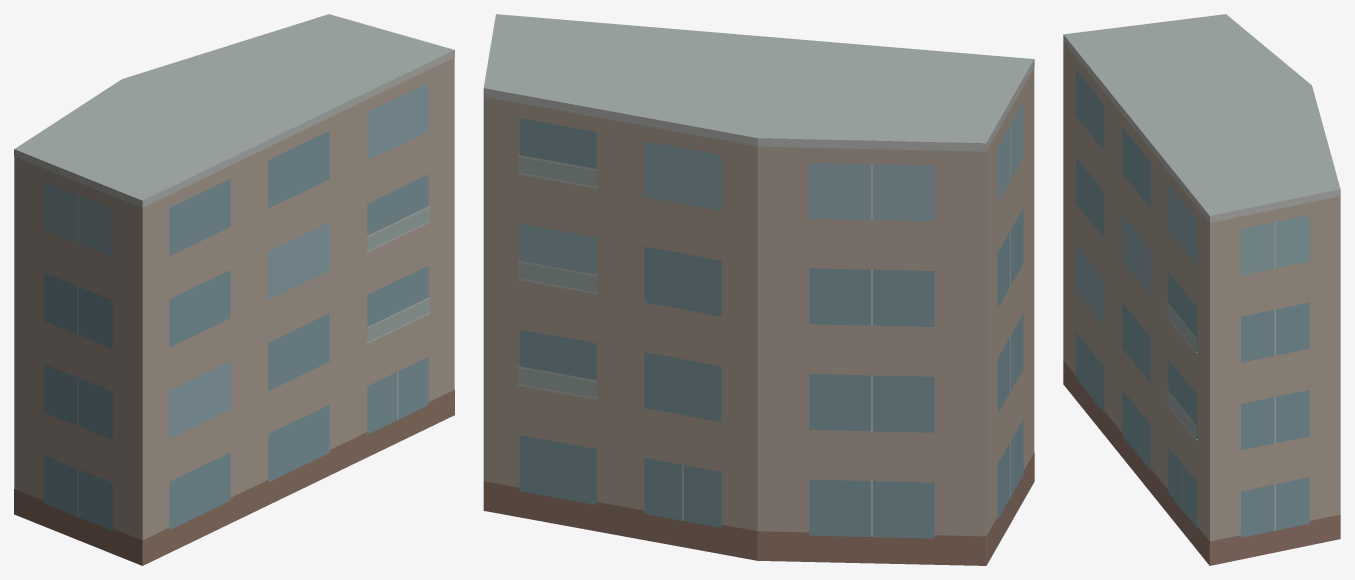
The model's file is residential-2057a778-b4ca-4744-8f73-6595a5b946dc.glb.
3 views of the same model, side by side, from view 1: azimuth 30°, elevation 25°; view 2: azimuth 150°, elevation 25°; view 3: azimuth 270°, elevation 25° (orthographic). The views are drawn at different scales.
Parts seen in each view (by area): view 1: residential-2057a778-b4ca-4744-8f73-6595a5b946dc.tmp; view 2: residential-2057a778-b4ca-4744-8f73-6595a5b946dc.tmp; view 3: residential-2057a778-b4ca-4744-8f73-6595a5b946dc.tmp.
Boxes of the visible parts, box(x1,y1,x2,y2) form: residential-2057a778-b4ca-4744-8f73-6595a5b946dc.tmp: box(14, 14, 454, 565); residential-2057a778-b4ca-4744-8f73-6595a5b946dc.tmp: box(483, 14, 1034, 565); residential-2057a778-b4ca-4744-8f73-6595a5b946dc.tmp: box(1063, 14, 1340, 565).
Bounding box in the file's own units: 15.12 × 12.2 × 8.77.
